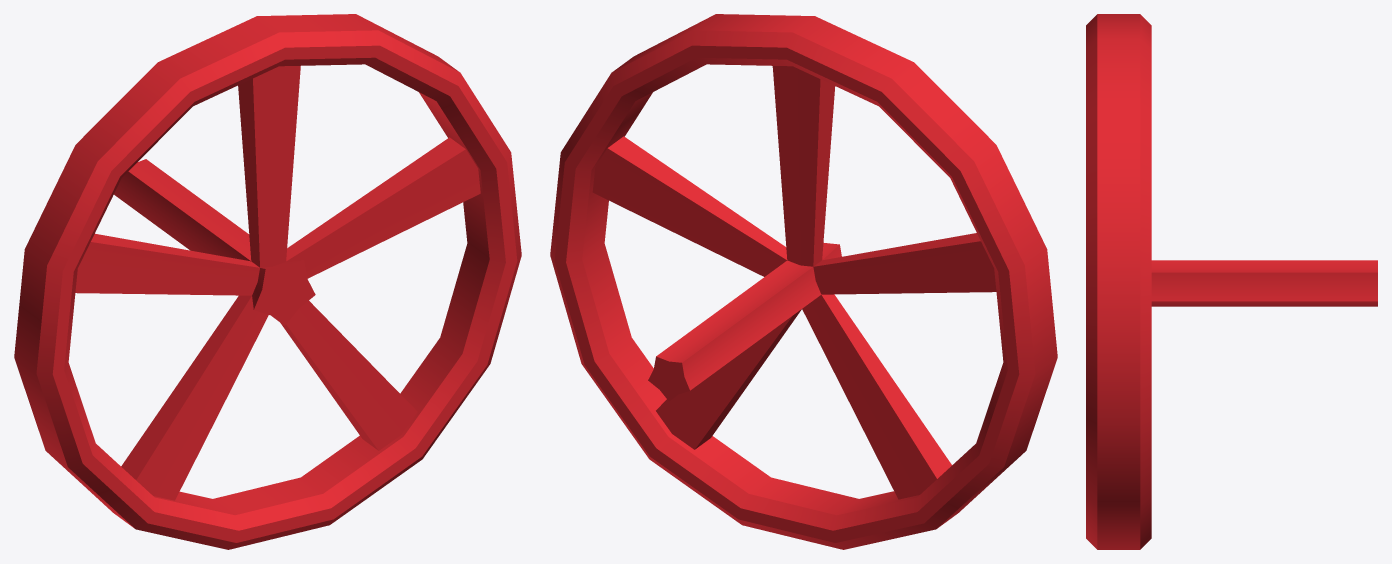
The model's file is Pipe_Registro.fbx.
The picture shows the model from 3 angles, left to right: view 1: azimuth 30°, elevation 25°; view 2: azimuth 150°, elevation 25°; view 3: azimuth 270°, elevation 25°; orthographic projection. The views are drawn at different scales.
Visible parts, largest first — view 1: Pipe Start Regis; view 2: Pipe Start Regis; view 3: Pipe Start Regis.
Part boxes in pixels (x1,y1,x2,y2): Pipe Start Regis: (14,14,521,549); Pipe Start Regis: (550,14,1057,549); Pipe Start Regis: (1086,14,1377,549).
Bounding box in the file's own units: 445 × 443 × 241.
